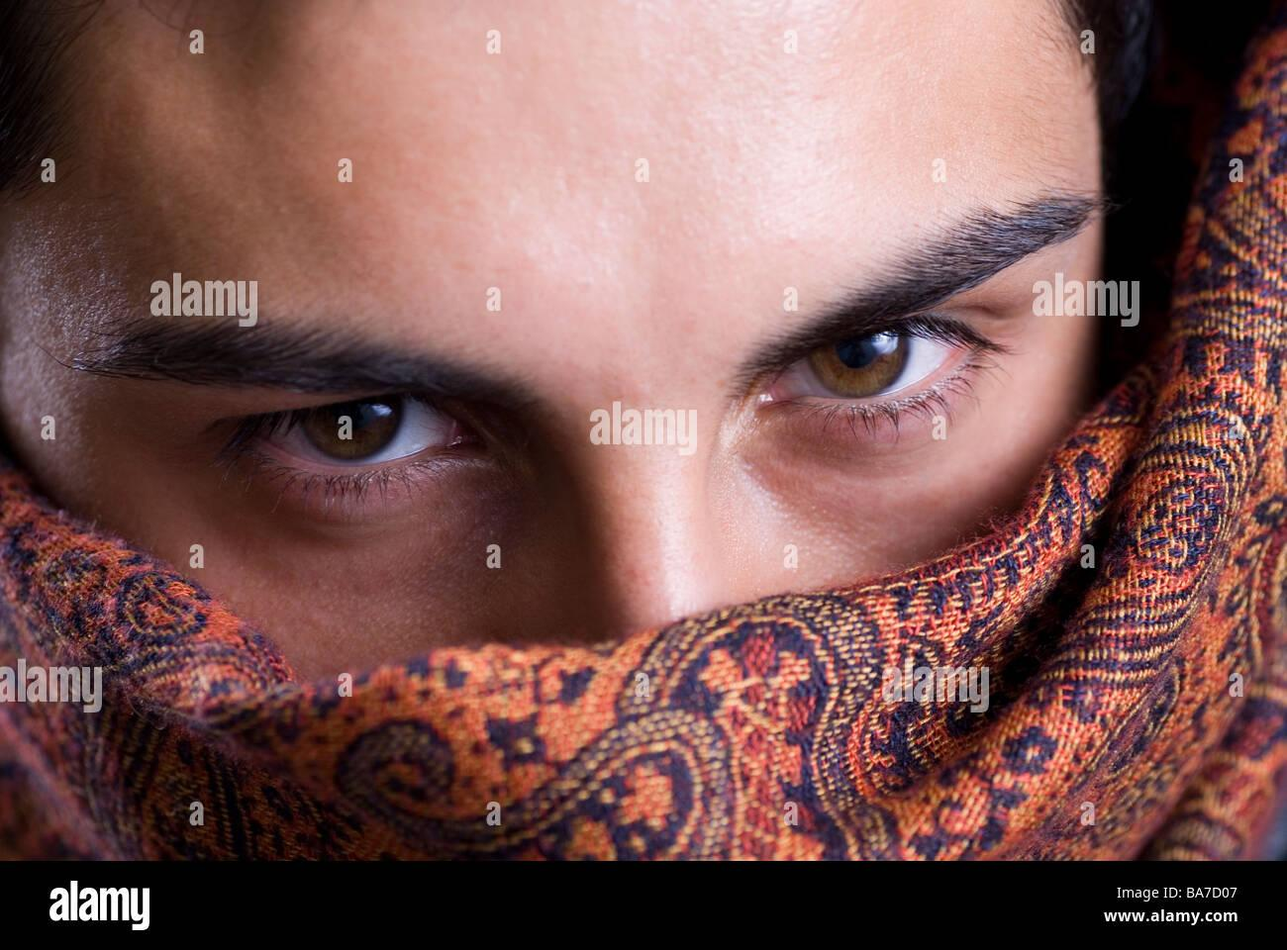scarf-kerchief: (0, 426, 1287, 891)
